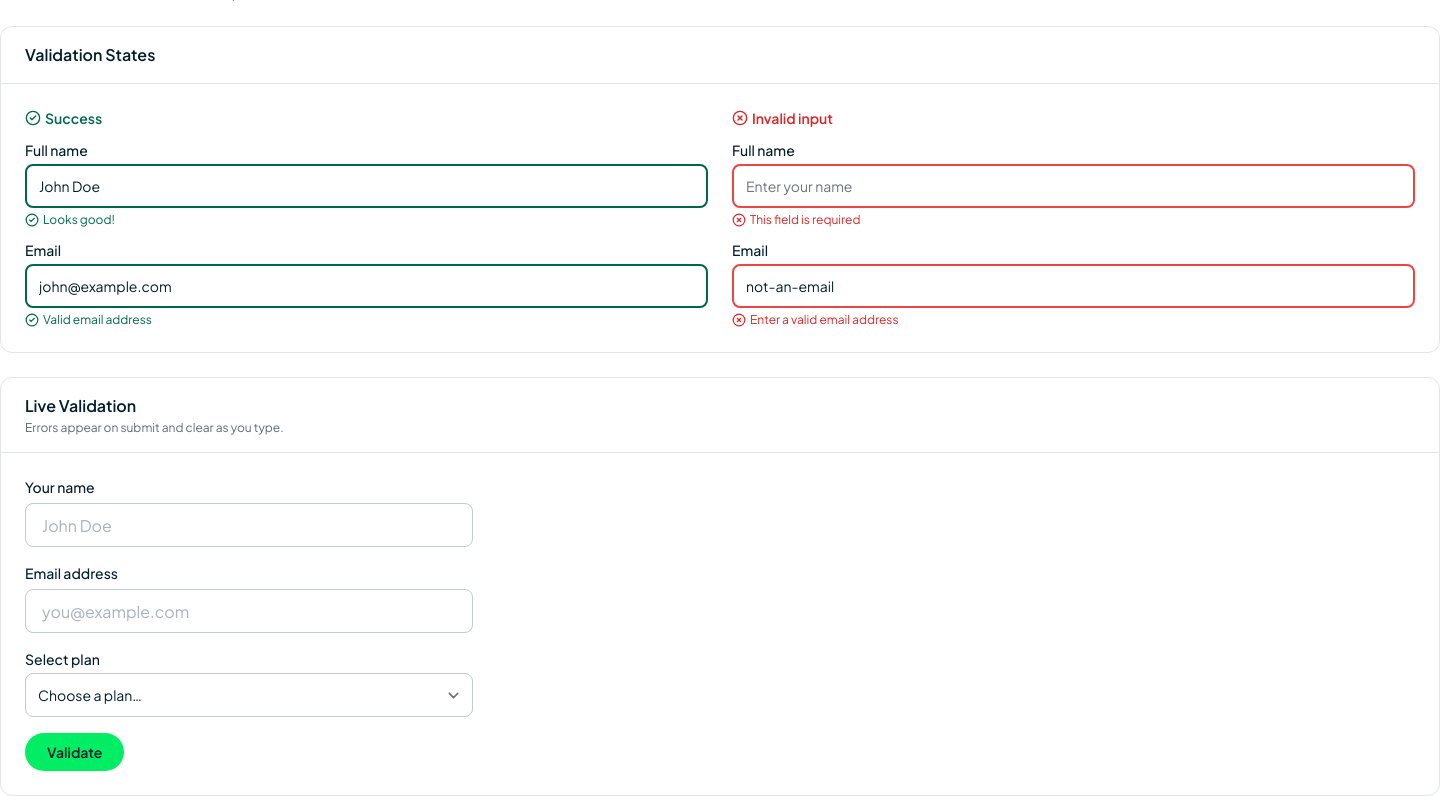
it: ValidationPage › shows errors on submit when fields are empty
(page scrolled)
Click the button "Validate" at {"x": 75, "y": 752}, box top-left (25, 733), bottom-right (124, 771)
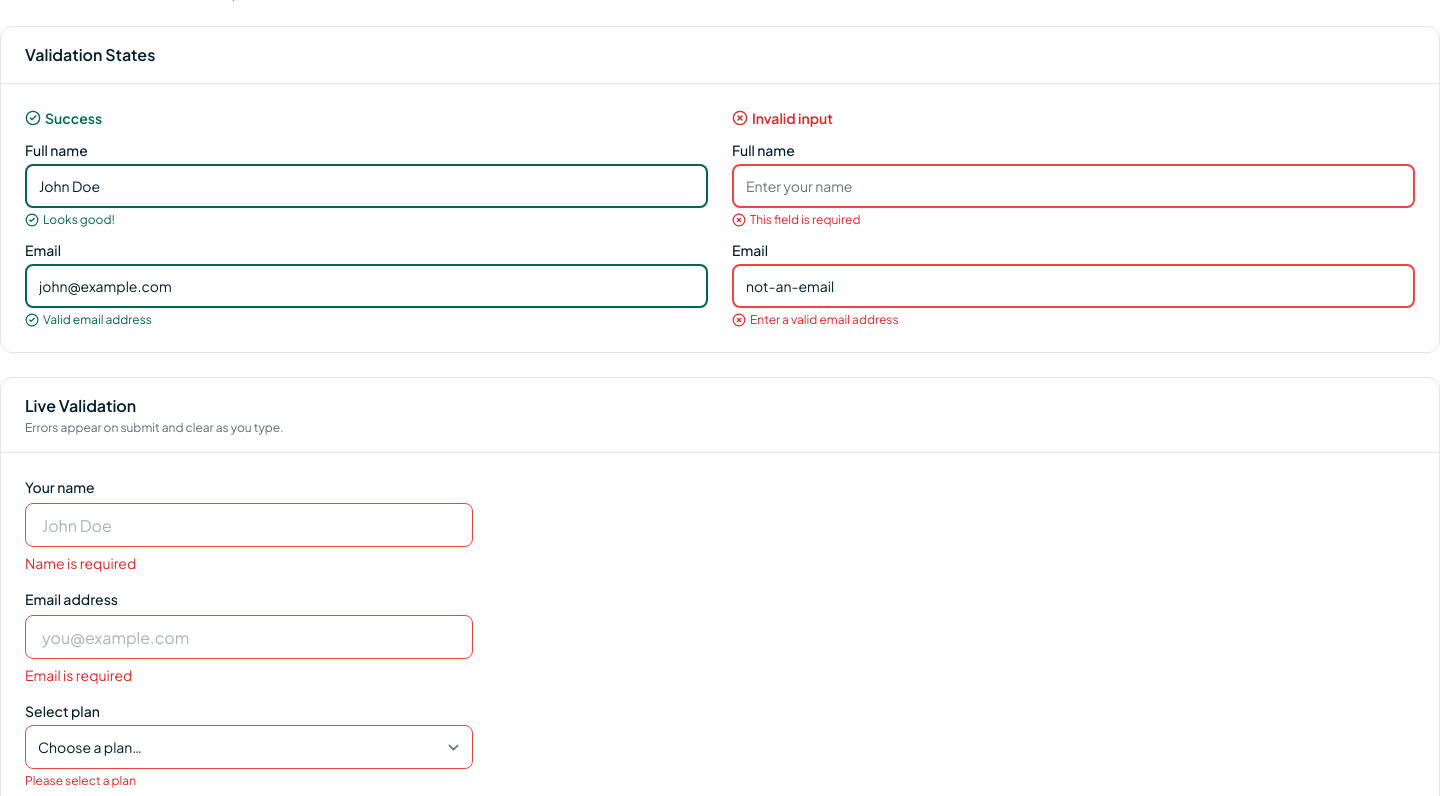
expect the text "Name is required" is shown: met, box top-left (25, 554), bottom-right (136, 572)
